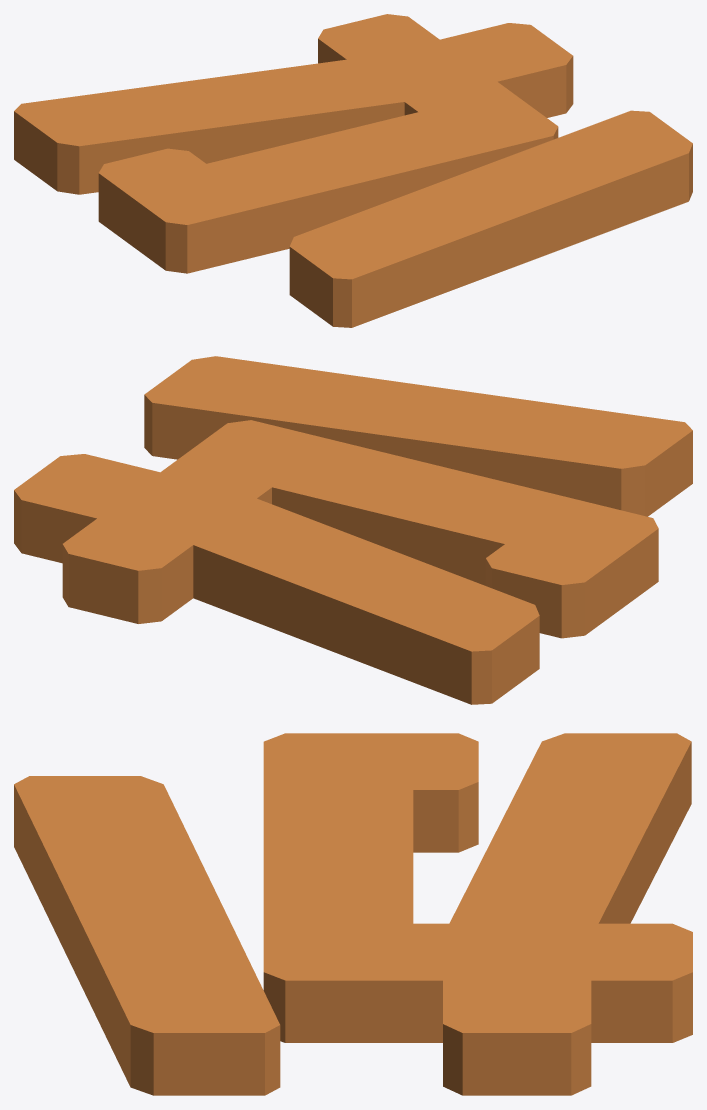
File: Japanese_3D_01_か.FBX
3 views of the same model, one above another, from view 1: azimuth 30°, elevation 25°; view 2: azimuth 150°, elevation 25°; view 3: azimuth 270°, elevation 25° (orthographic). The views are drawn at different scales.
Visible parts, largest first — view 1: Japanese_3D_01_か; view 2: Japanese_3D_01_か; view 3: Japanese_3D_01_か.
Part boxes in pixels (x1,y1,x2,y2): Japanese_3D_01_か: (14, 14, 692, 327); Japanese_3D_01_か: (14, 356, 692, 704); Japanese_3D_01_か: (14, 733, 692, 1095).
Bounding box in the file's own units: 77.02 × 7.5 × 73.72.
